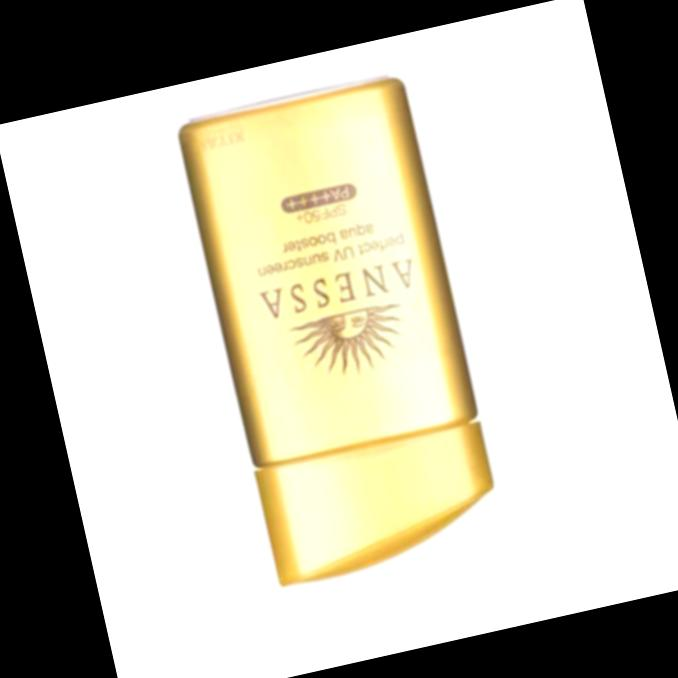cosmetic: (175, 77, 511, 590)
